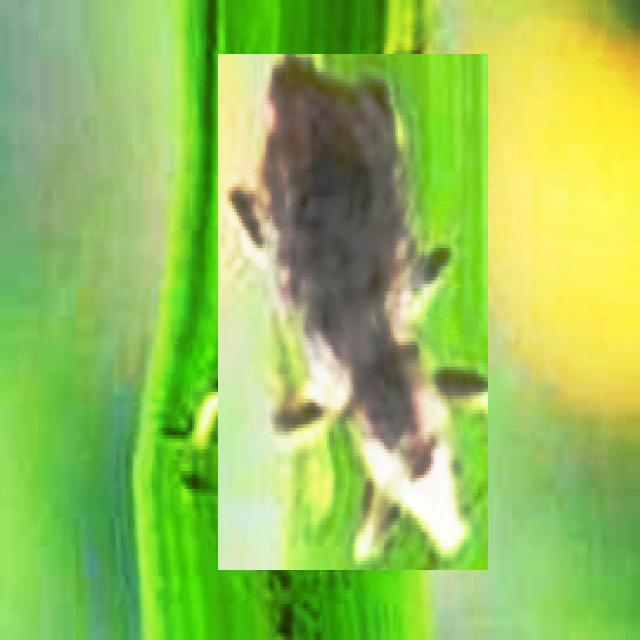rice-bug: (218, 54, 488, 570)
